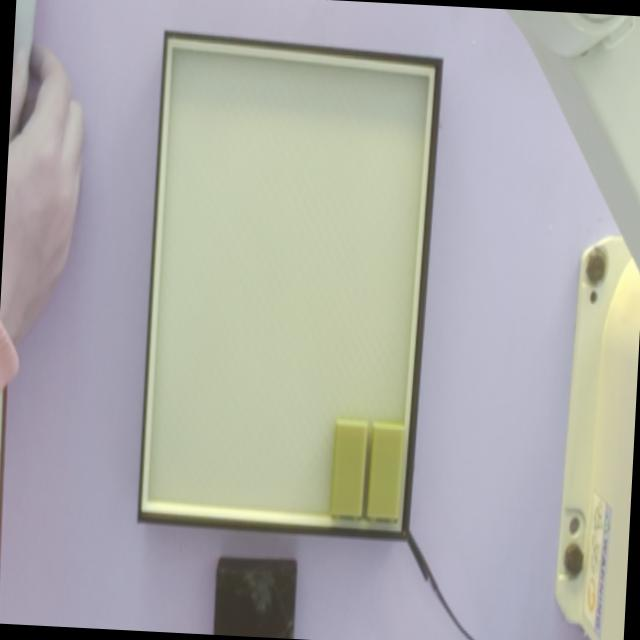bateria: (366, 421, 406, 524), (329, 419, 368, 523)
mesa: (137, 31, 443, 543)
